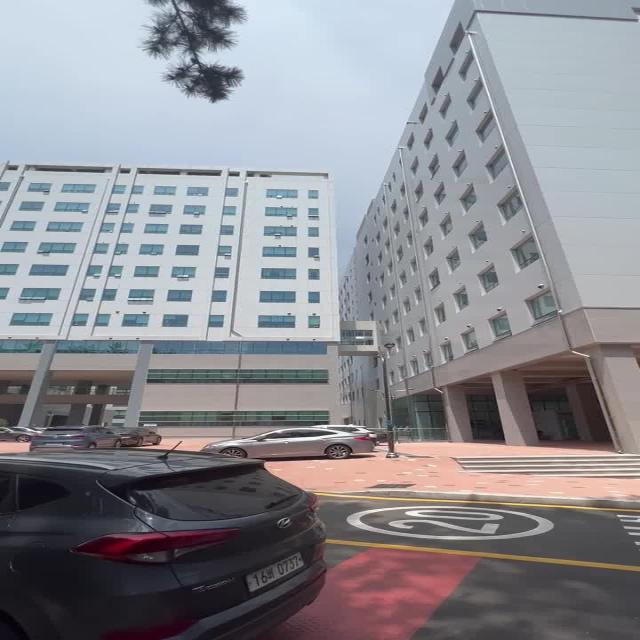building: (18, 162, 356, 431)
